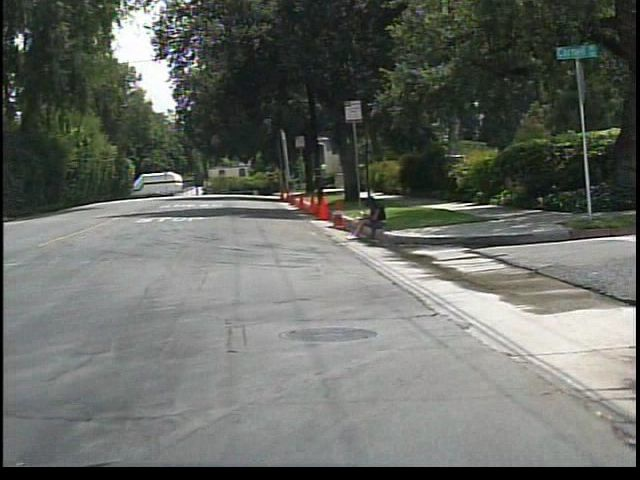person: (343, 192, 397, 245)
